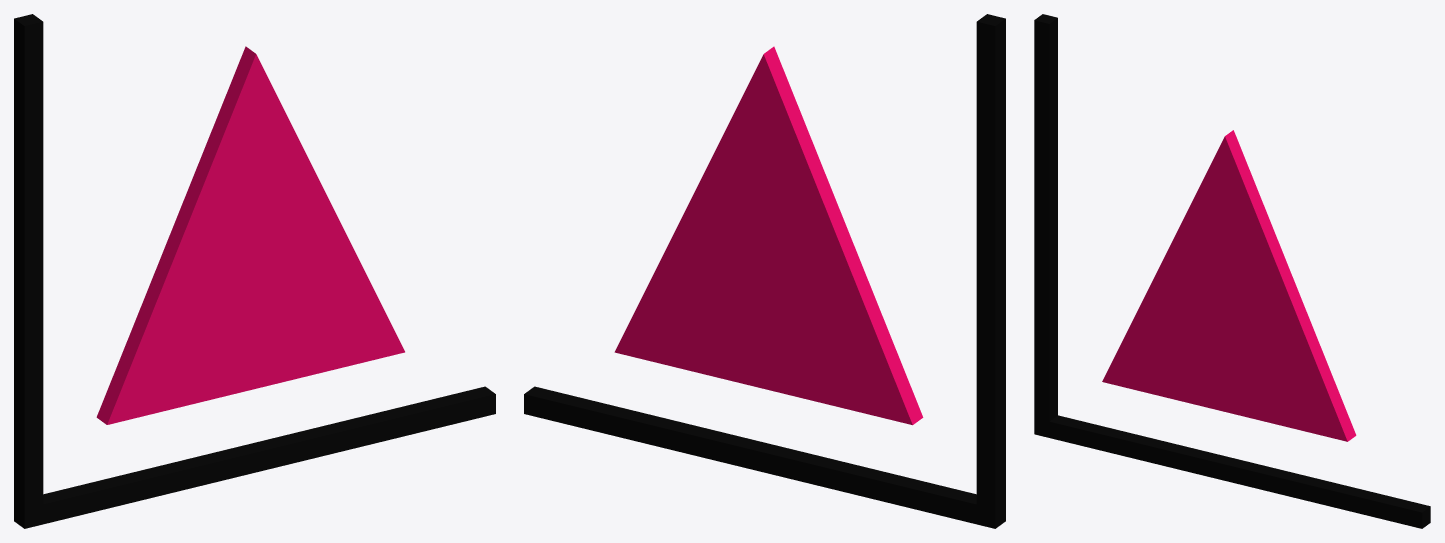
The model's file is triangulo.fbx.
3 renders of one model, left to right at view 1: azimuth 30°, elevation 25°; view 2: azimuth 150°, elevation 25°; view 3: azimuth 330°, elevation 25°, orthographic. The views are drawn at different scales.
Visible parts, largest first — view 1: Mesh_0.002, Mesh_1.002; view 2: Mesh_0.002, Mesh_1.002; view 3: Mesh_0.002, Mesh_1.002.
Part boxes in pixels (x1,y1,x2,y2): Mesh_0.002: (96, 46, 404, 424); Mesh_1.002: (14, 14, 495, 528); Mesh_0.002: (614, 46, 923, 425); Mesh_1.002: (524, 14, 1005, 528); Mesh_0.002: (1102, 130, 1356, 441); Mesh_1.002: (1034, 14, 1430, 528).
Size of the model in its own units: 5.88 by 6 by 0.2281.
